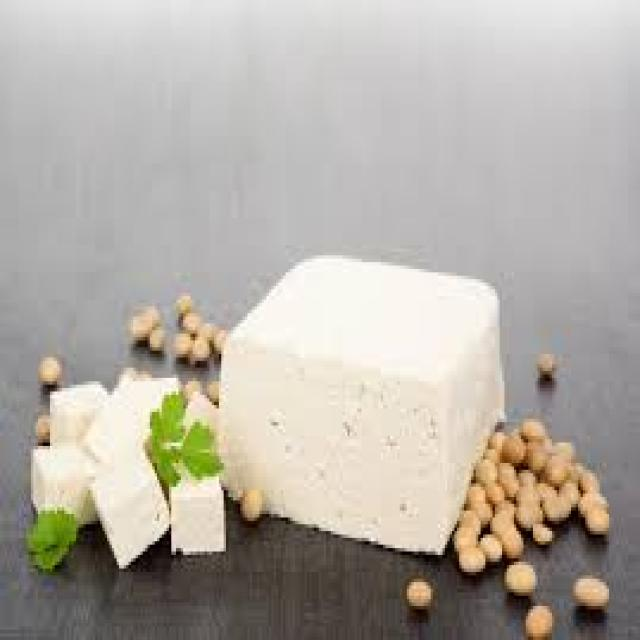tofu: (206, 224, 540, 557)
